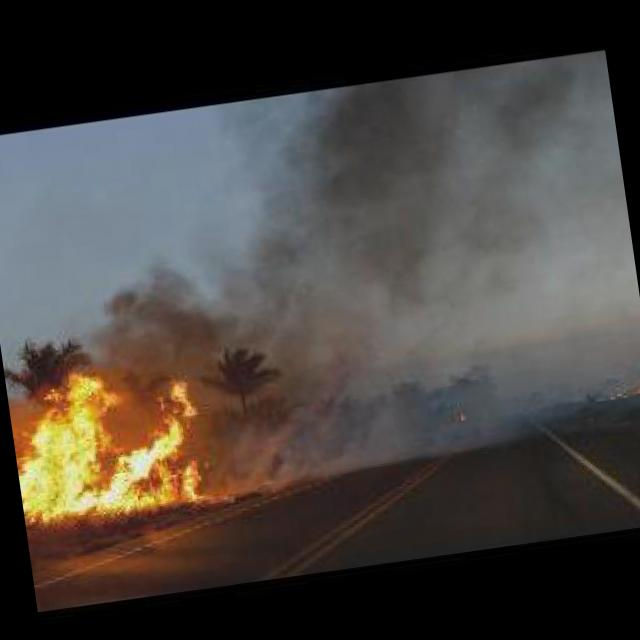fire: (7, 358, 225, 530), (635, 378, 640, 392)
smoke: (219, 47, 640, 365), (212, 366, 538, 488), (46, 244, 250, 376)
